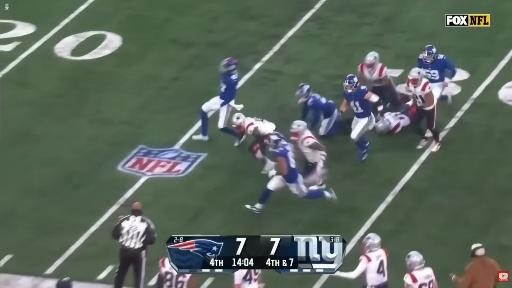Helmet: (362, 233, 381, 253), (406, 251, 424, 270), (363, 51, 379, 72), (268, 132, 286, 150), (291, 121, 307, 140), (408, 68, 424, 87), (296, 83, 311, 103), (344, 75, 359, 93), (422, 45, 436, 63), (220, 58, 238, 72), (375, 118, 391, 133), (232, 113, 245, 128)
Jersey: (302, 94, 336, 128), (418, 55, 455, 83), (360, 249, 387, 285), (159, 258, 191, 287), (343, 86, 371, 118), (298, 130, 325, 163), (276, 143, 298, 183), (407, 79, 431, 109), (404, 267, 435, 287), (359, 63, 386, 85), (220, 73, 238, 105), (384, 112, 410, 133), (244, 118, 275, 135), (235, 270, 261, 287)
Player: (246, 133, 336, 212), (192, 58, 243, 140), (340, 75, 379, 161), (335, 233, 387, 287), (407, 68, 440, 151), (232, 113, 275, 173), (296, 83, 341, 137), (291, 121, 326, 188), (359, 52, 399, 110), (418, 45, 456, 102), (375, 101, 415, 134), (404, 251, 437, 287), (157, 258, 197, 287), (234, 270, 262, 287)
